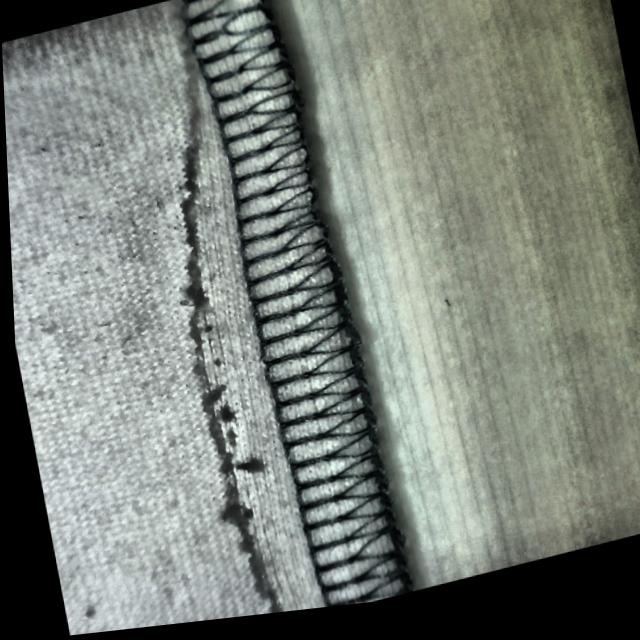seam: (76, 30, 436, 622)
